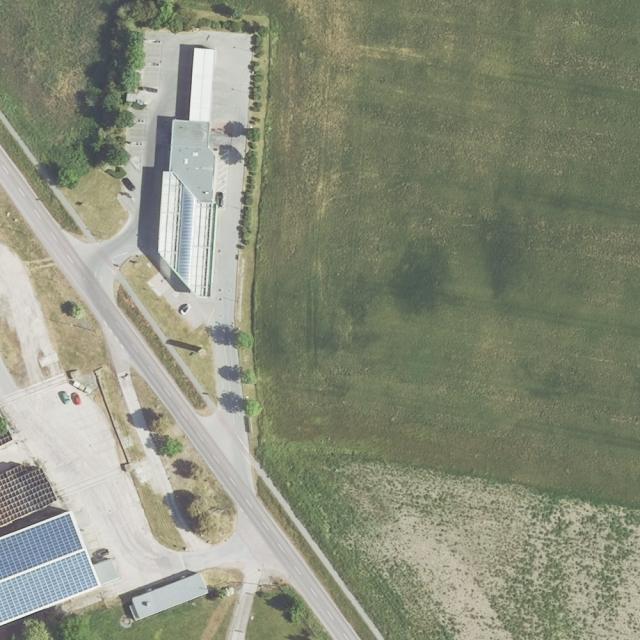PV: (0, 513, 97, 625)
